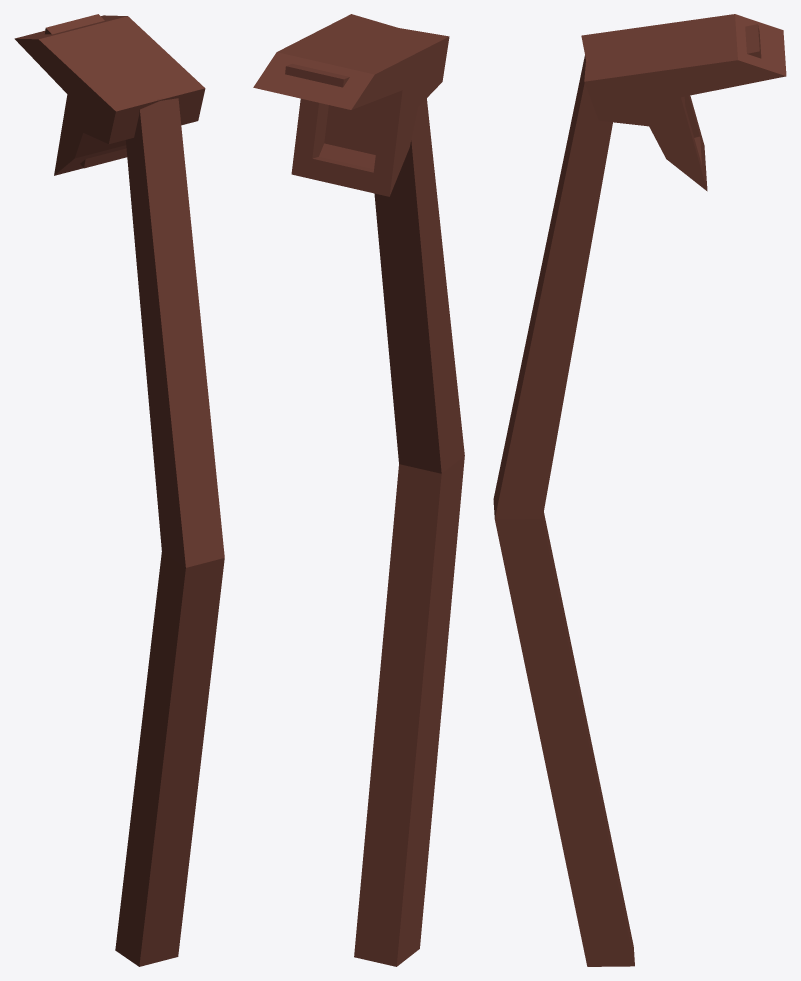
File: poste.fbx
3 renders of one model, left to right at view 1: azimuth 30°, elevation 25°; view 2: azimuth 150°, elevation 25°; view 3: azimuth 270°, elevation 25°, orthographic. The views are drawn at different scales.
Visible parts, largest first — view 1: poste; view 2: poste; view 3: poste.
Boxes of the visible parts, bbox=[...] form: poste: bbox=[14, 14, 224, 966]; poste: bbox=[253, 14, 464, 966]; poste: bbox=[493, 14, 786, 966].
Size of the model in its own units: 92.59 by 320 by 36.28.
